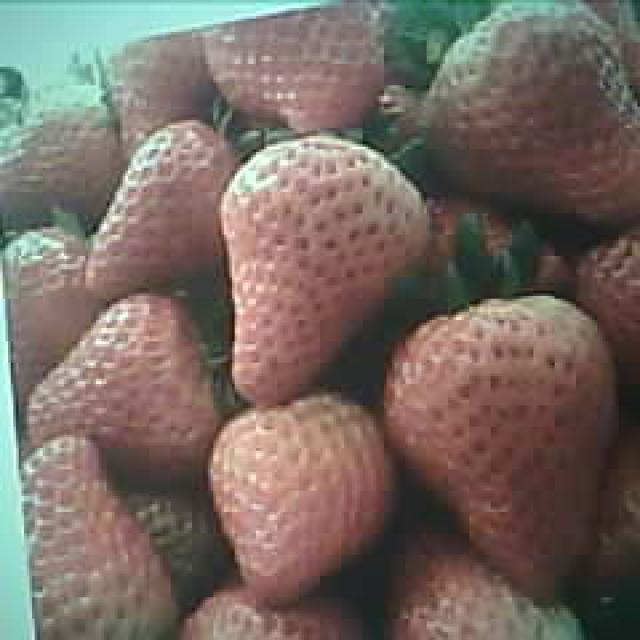ripe: (380, 300, 616, 596), (220, 138, 432, 406), (420, 0, 640, 219), (210, 393, 392, 611), (26, 298, 210, 478)
